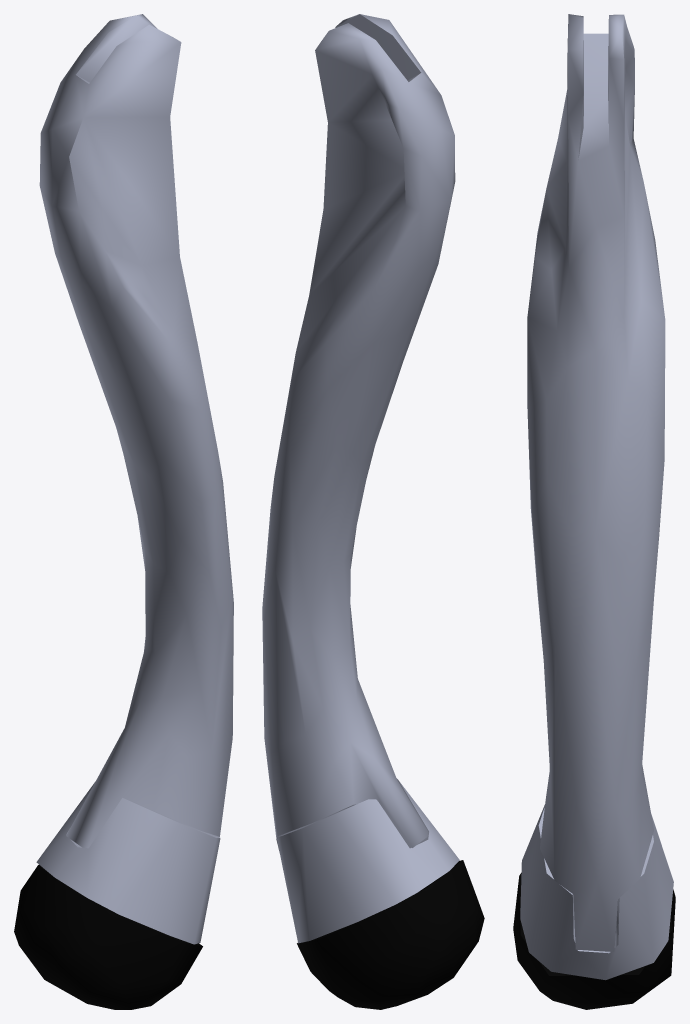
Rendered from calf_mirror_dae.dae.
3 views of the same model, side by side, from view 1: azimuth 30°, elevation 25°; view 2: azimuth 150°, elevation 25°; view 3: azimuth 270°, elevation 25° (orthographic). The views are drawn at different scales.
Parts seen in each view (by area): view 1: calf_mirror_dae; view 2: calf_mirror_dae; view 3: calf_mirror_dae.
Boxes of the visible parts, bbox=[...] form: calf_mirror_dae: bbox=[14, 14, 233, 1009]; calf_mirror_dae: bbox=[262, 14, 484, 1009]; calf_mirror_dae: bbox=[513, 14, 675, 1009].
Bounding box in the file's own units: 0.0578 × 0.0395 × 0.2661.
